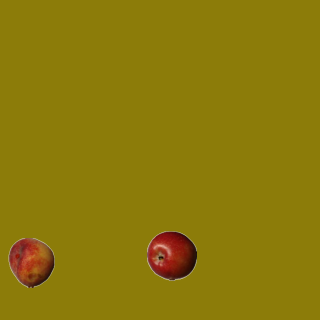Apple Braeburn: (146, 230, 196, 280)
Peach: (6, 237, 56, 287)
